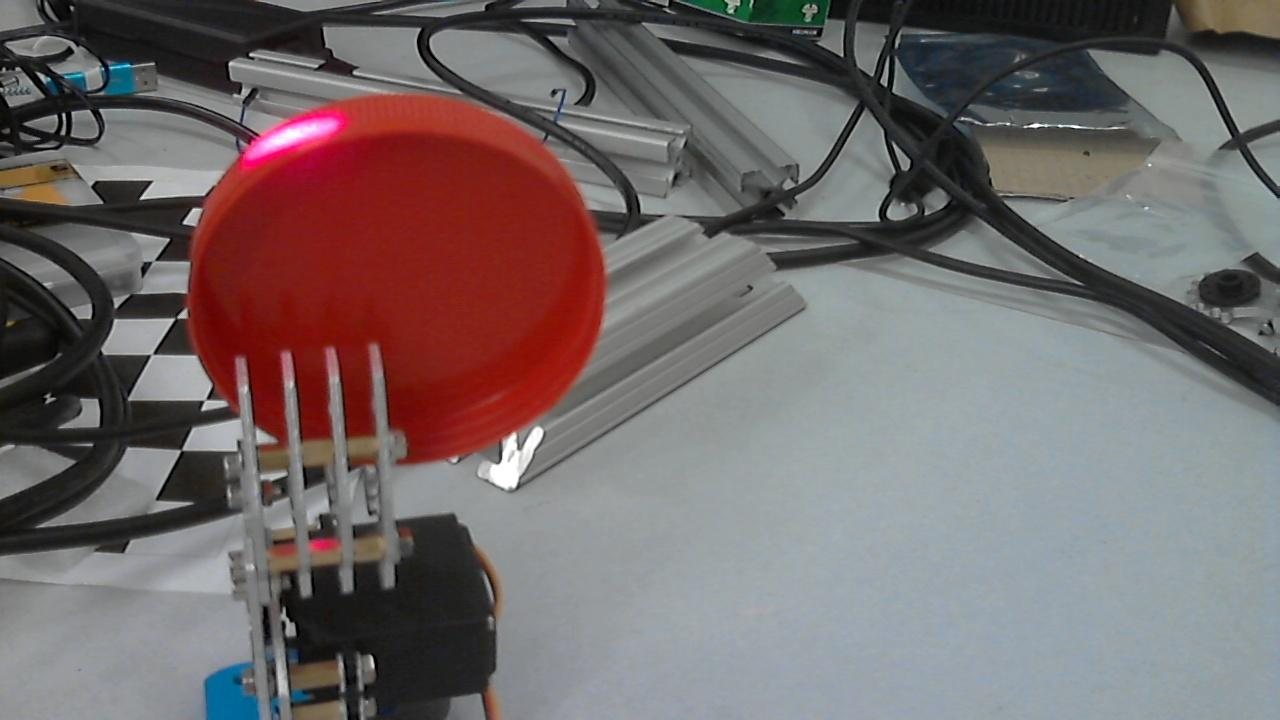Object plastic container lid - Material plastic - Color red - Pdfname ZC63DBkv6o: (232, 103, 352, 200)
